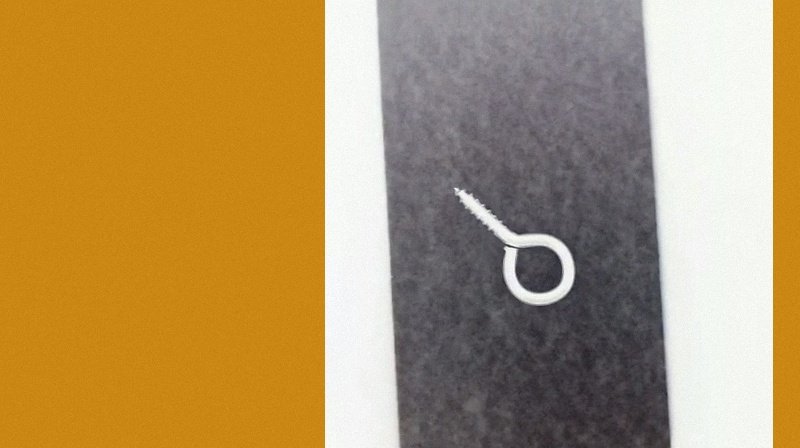O001: (445, 179, 577, 309)
